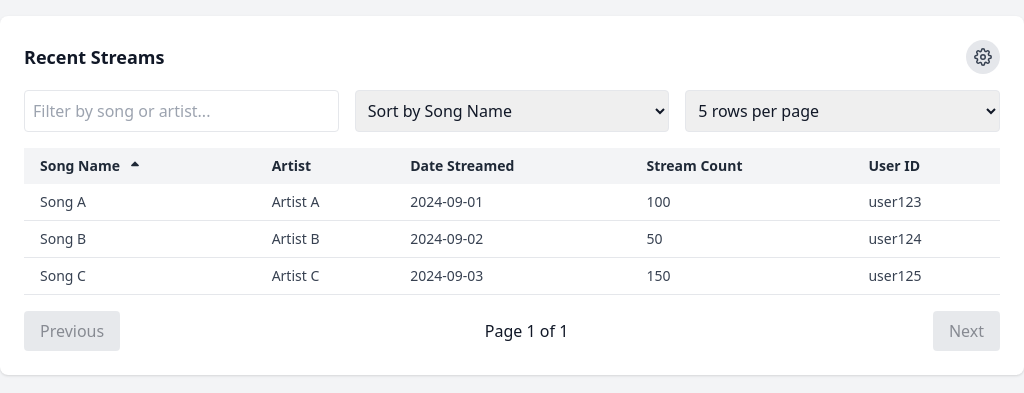
Test: RecentStreamsTable Component › sorts data by stream count ascending and descending when header is clicked
Note: Initial sort by ascending order
Click the column heading "Stream Count": point(742, 166) [630,148,852,184]
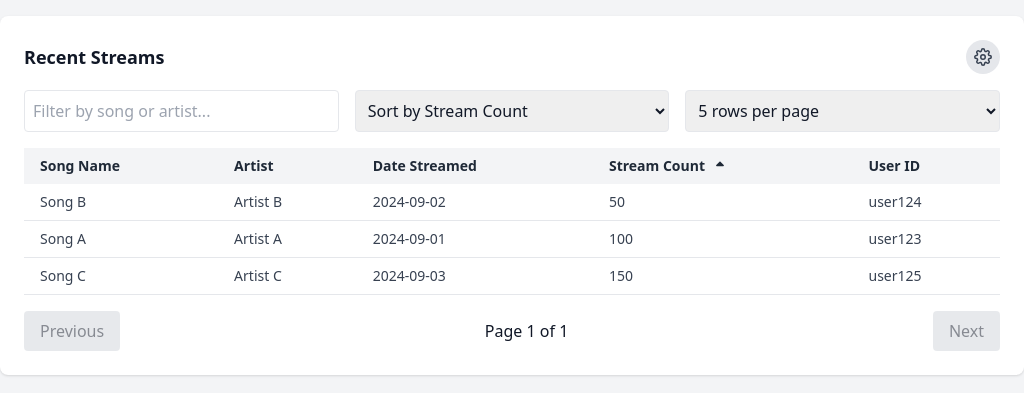
Expected: the row "Song C Artist C 2024-09-03 150 user125" is shown, [24,258,1000,294]
Now the row "Song B Artist B 2024-09-02 50 user124" is shown, box [24,184,1000,220]
Now the row "Song A Artist A 2024-09-01 100 user123" is shown, box [24,220,1000,258]
Note: Toggle to descending order
Click the column heading "Stream Count": point(723, 166) [593,148,852,184]
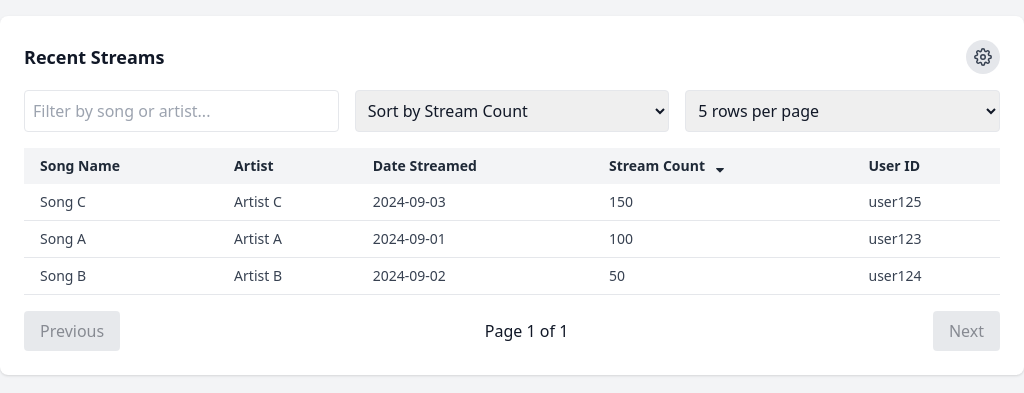
Now the row "Song A Artist A 2024-09-01 100 user123" is shown, box [24,220,1000,258]
Now the row "Song C Artist C 2024-09-03 150 user125" is shown, box [24,184,1000,220]
Now the row "Song B Artist B 2024-09-02 50 user124" is shown, box [24,258,1000,294]
